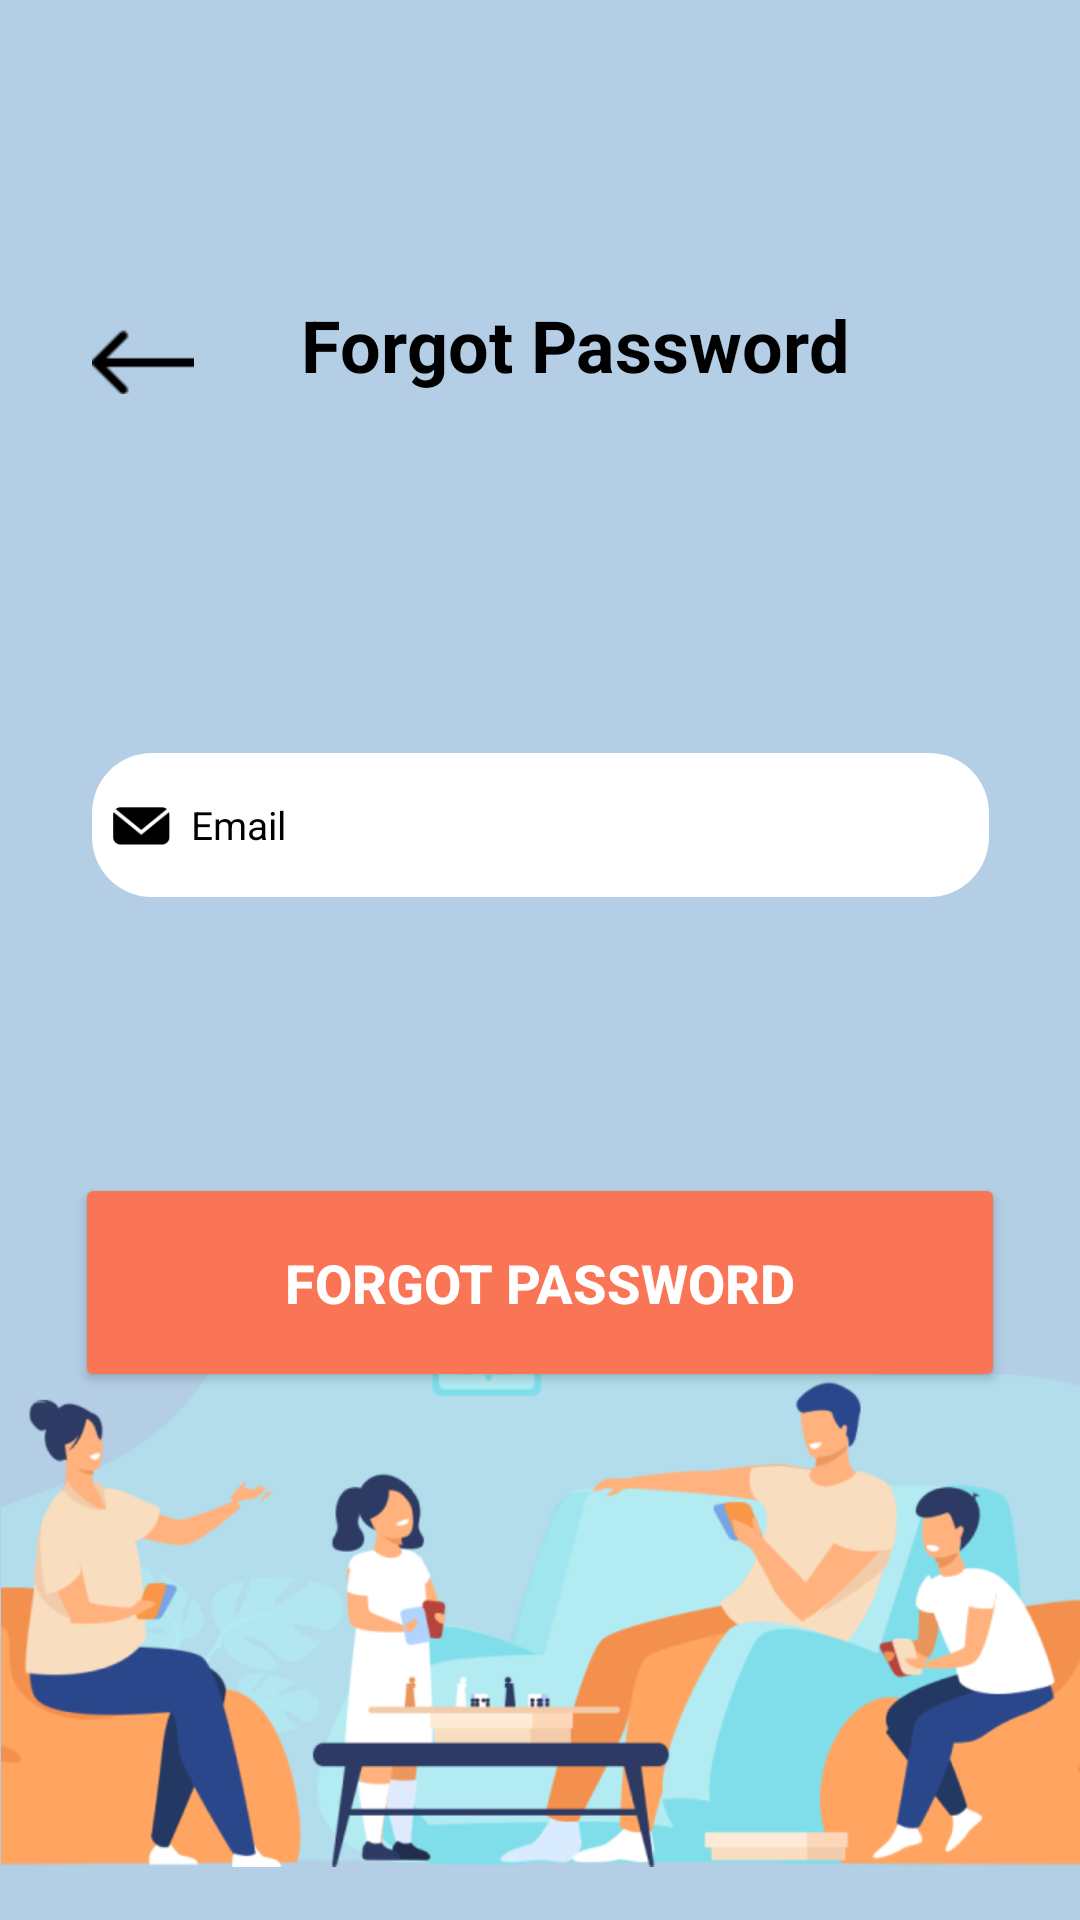

Screen size 1080 x 1920. Icon name, then its box in pixels as Rect(x1, y1, x2, y2):
arrow: Rect(92, 330, 194, 394)
